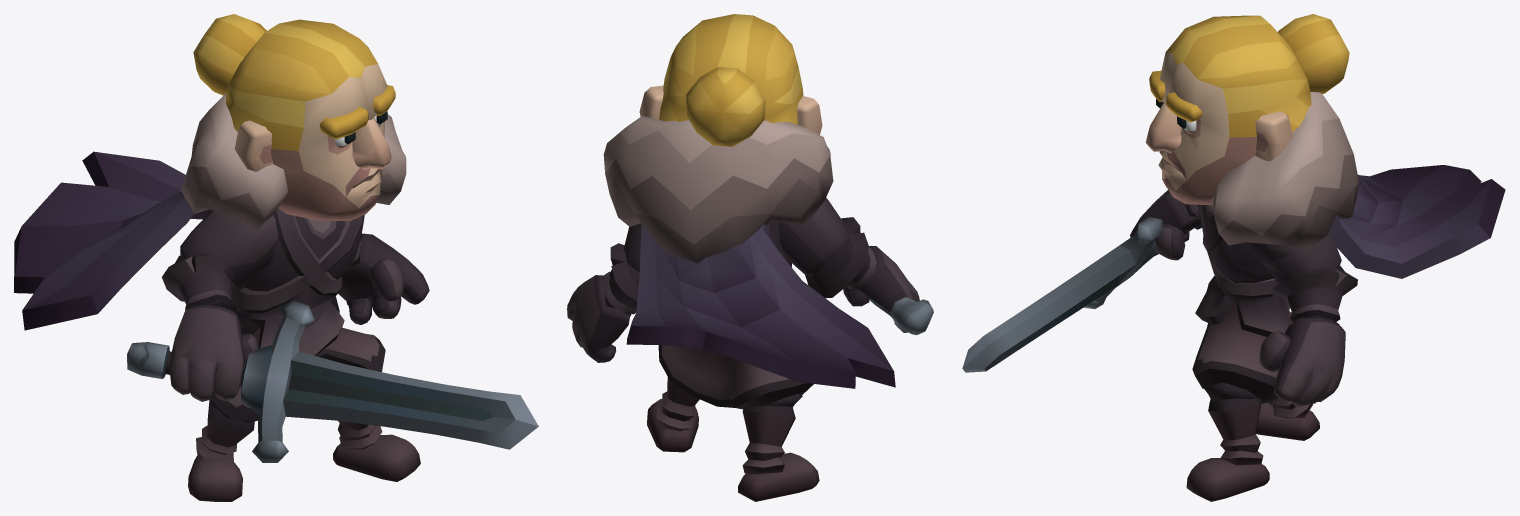
3 renders of one model, left to right at view 1: azimuth 30°, elevation 25°; view 2: azimuth 150°, elevation 25°; view 3: azimuth 270°, elevation 25°, orthographic. The views are drawn at different scales.
Parts seen in each view (by area): view 1: head_snon_jow2; view 2: head_snon_jow2; view 3: head_snon_jow2.
Part boxes in pixels (x1=…): head_snon_jow2: x1=14, y1=14, x2=538, y2=501; head_snon_jow2: x1=567, y1=14, x2=933, y2=501; head_snon_jow2: x1=962, y1=14, x2=1505, y2=501.
Size of the model in its own units: 140 by 163 by 182.
Materials: 1 (1 with a texture image).
